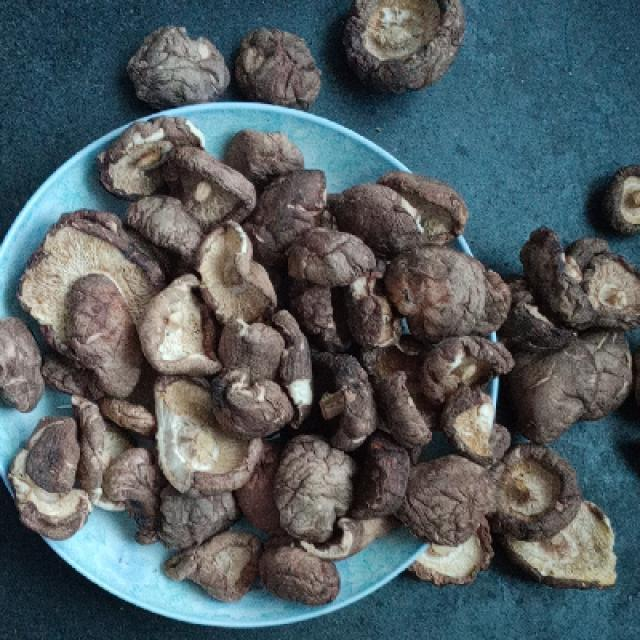Lentinus edodes: (0, 120, 507, 597), (513, 336, 637, 440), (521, 224, 640, 325), (342, 0, 467, 86), (511, 502, 623, 591), (123, 26, 230, 109), (488, 443, 579, 536), (243, 31, 326, 111), (606, 162, 640, 227)
